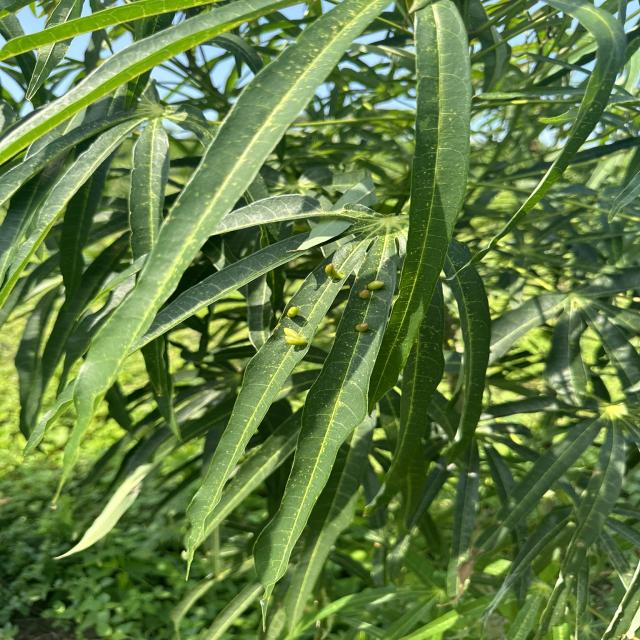Mosca: (272, 292, 325, 354), (354, 269, 389, 334), (319, 250, 351, 290)
